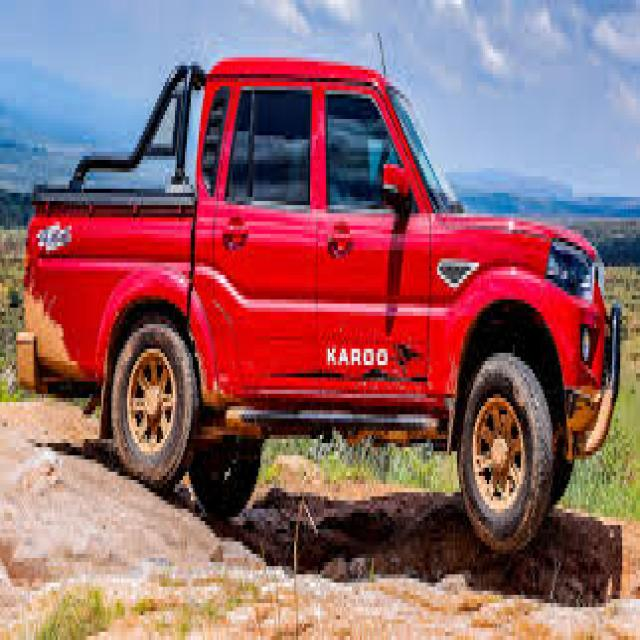Pickup Trucks: (22, 53, 622, 558)
